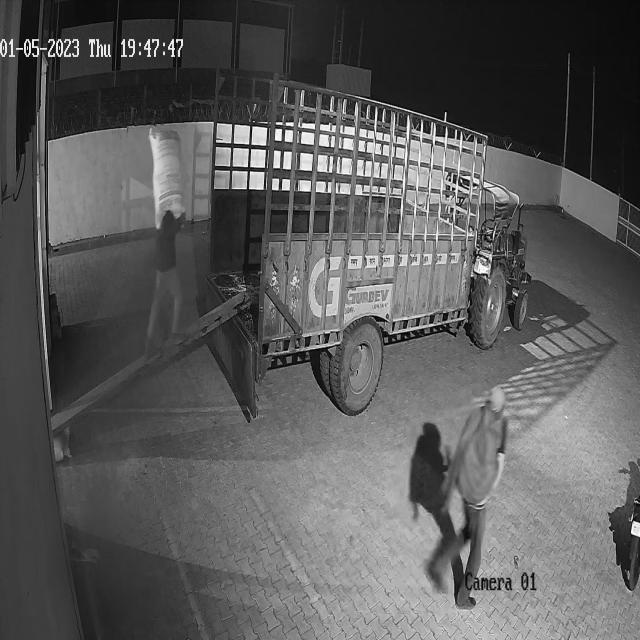sack: (149, 126, 184, 226)
